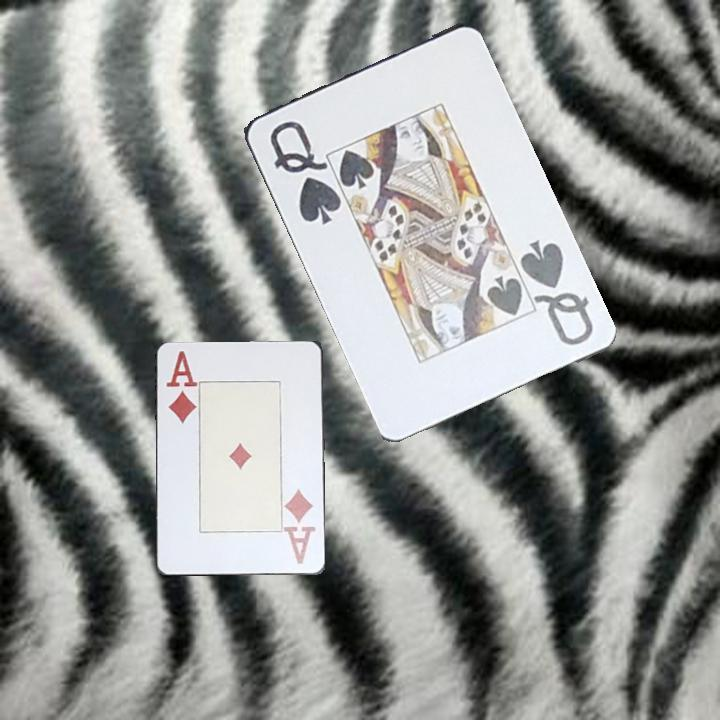Ad: (282, 486, 318, 567), (163, 348, 198, 427)
Qs: (515, 236, 596, 349), (265, 117, 344, 228)
